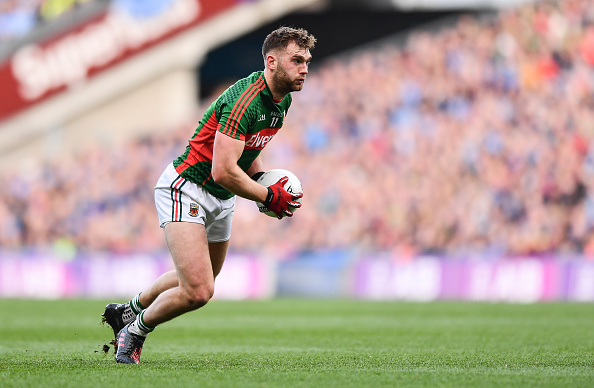ball: (247, 158, 303, 217)
player: (118, 22, 345, 302)
